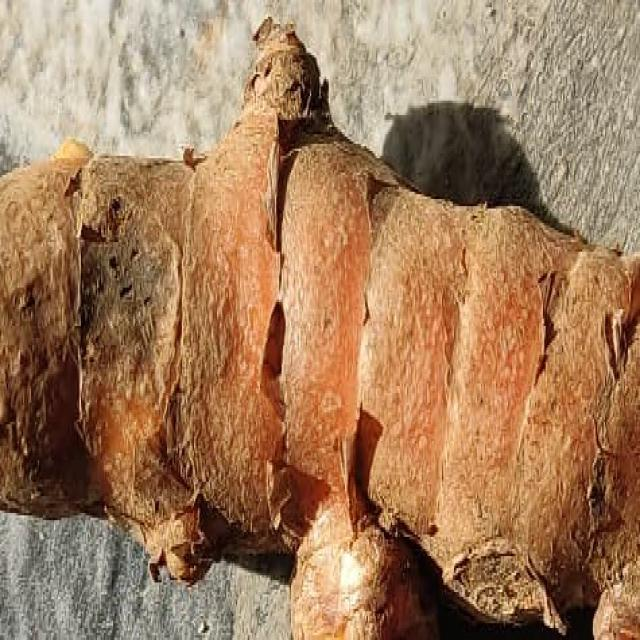ginger: (2, 117, 640, 584)
